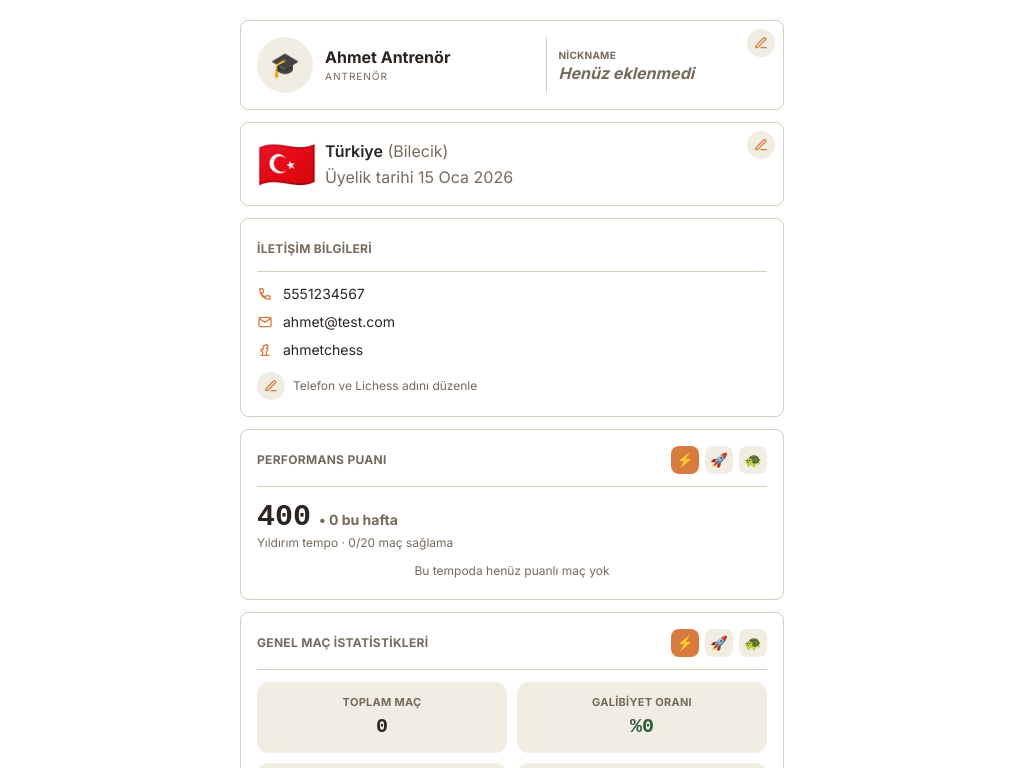
Madde 2026-09-11 (Görsel Turu Aşama B / Madde 3 + S3-b): antrenör profil düzenleme › iletişim: telefon + Lichess düzenlenir, e-posta değiştirilemez
Expected: the text "Ahmet Antrenör" is shown, x1=325 y1=46 x2=450 y2=66
Click the button named "İletişim bilgilerini düzenle". click: (271, 386)
box: x1=257 y1=372 x2=285 y2=400
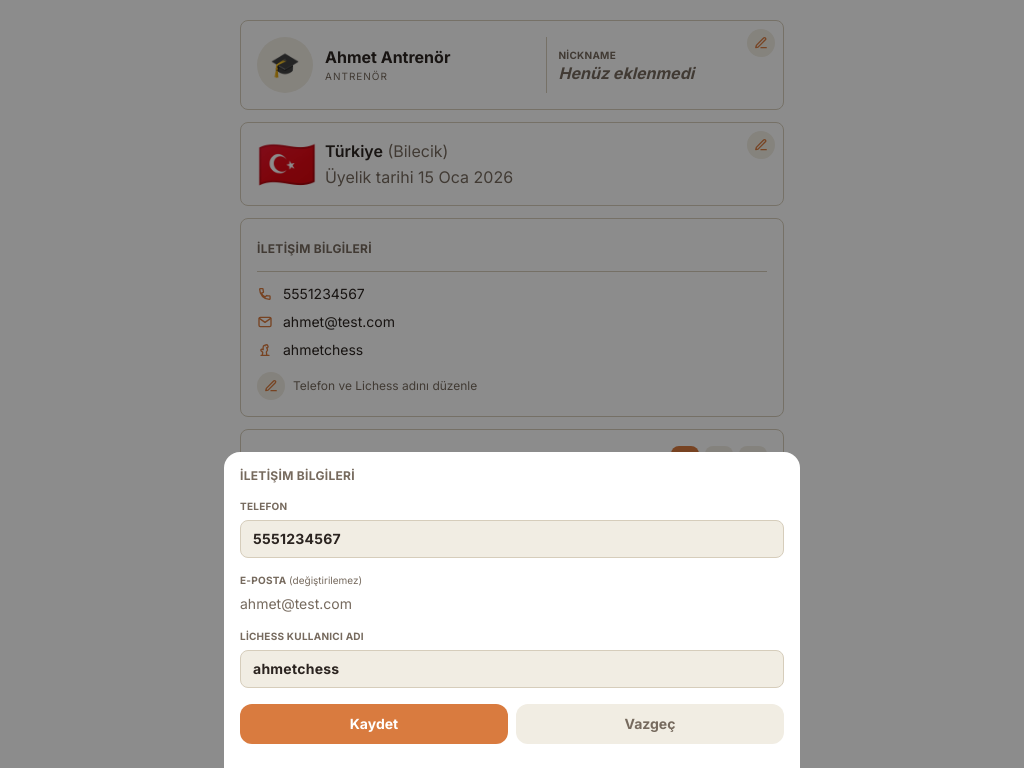
Now the text "(değiştirilemez)" is shown, box x1=289 y1=574 x2=362 y2=586
Replace the text in the field labelled "Telefon" with "0532". click: (512, 539)
box: x1=240 y1=520 x2=784 y2=558
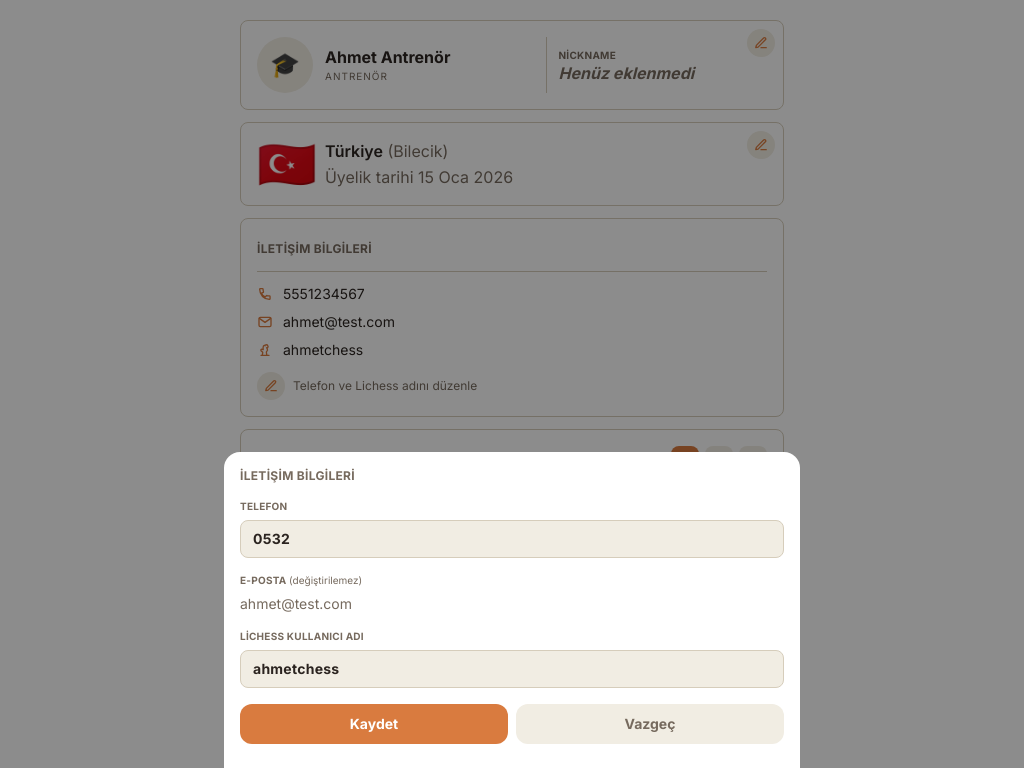
Replace the text in the field labelled "Lichess kullanıcı adı" with "hocam". click: (512, 669)
box: x1=240 y1=650 x2=784 y2=688
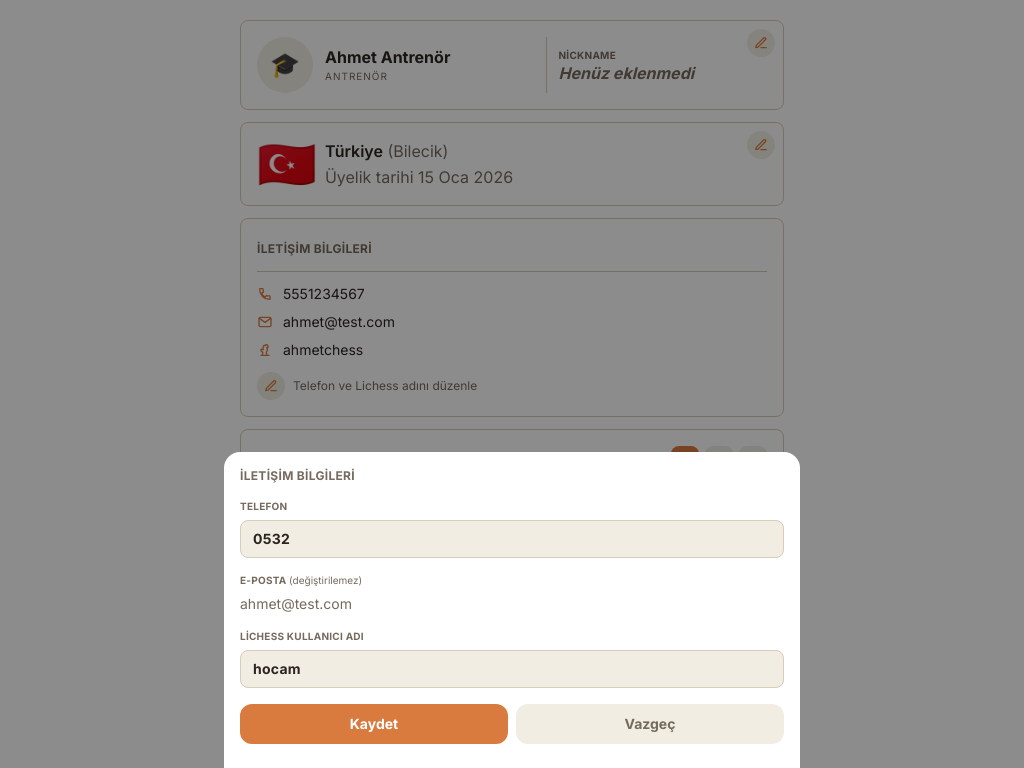
Click the button "Kaydet". click: (374, 724)
box: x1=240 y1=704 x2=508 y2=744
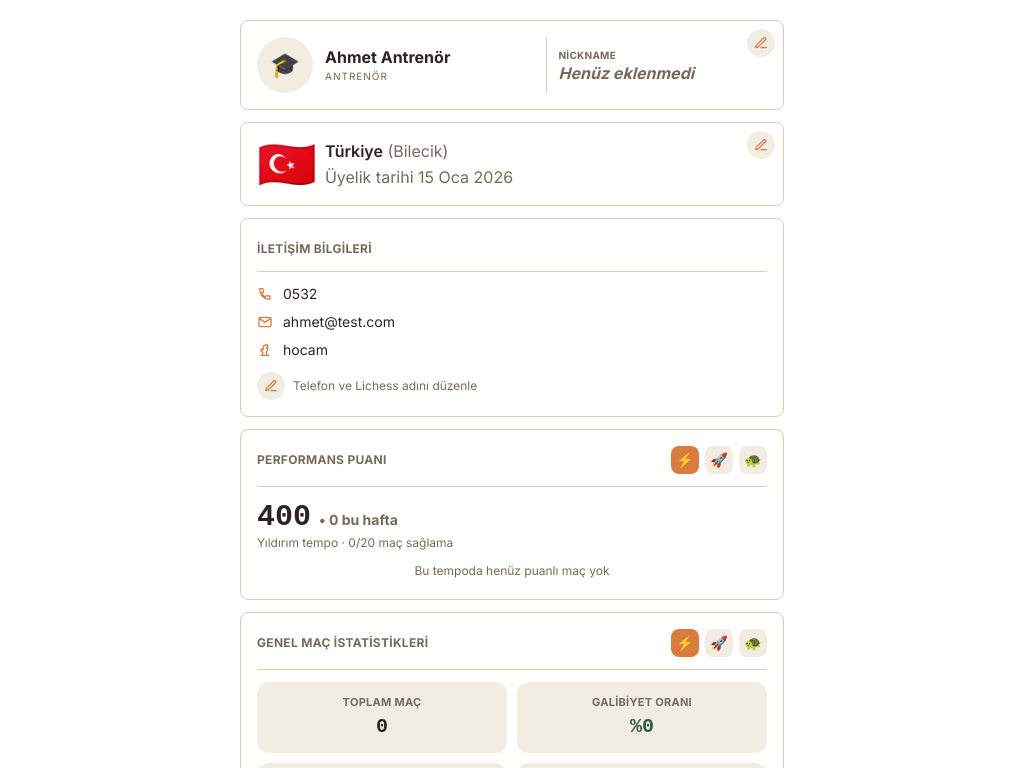
Expected: the text "ahmet@test.com" is shown, x1=283 y1=312 x2=395 y2=332
Now the text "hocam" is shown, box x1=283 y1=340 x2=328 y2=360
